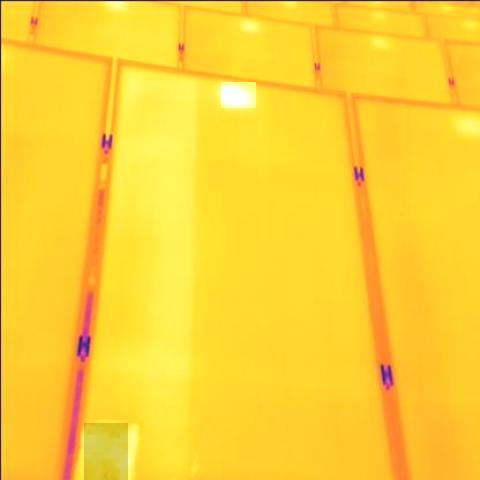fault: (84, 423, 128, 480), (221, 82, 256, 108)
